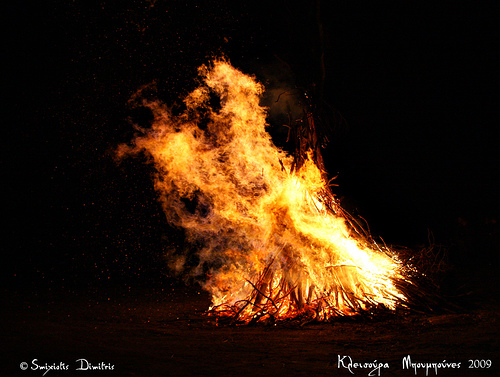fire: (137, 61, 415, 322)
